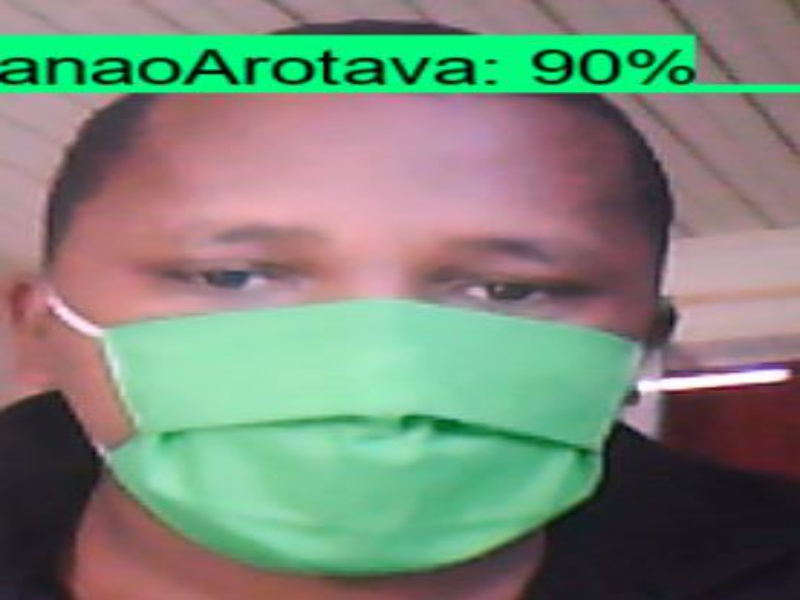ManaoArotava: (16, 48, 705, 586)
